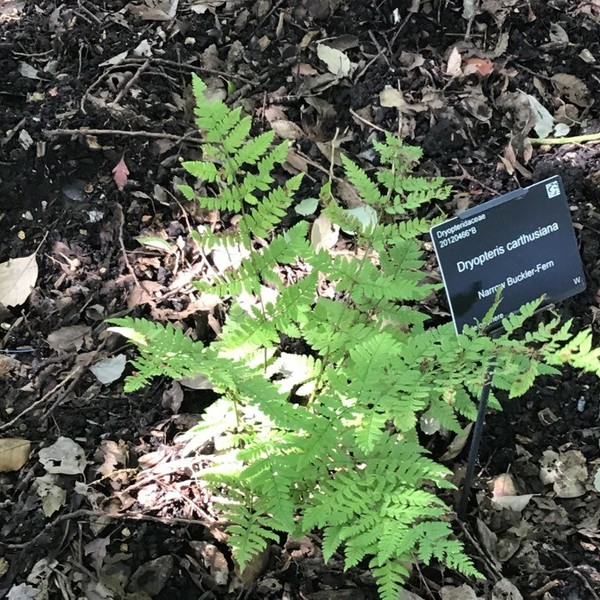obstacle: (105, 77, 513, 582)
